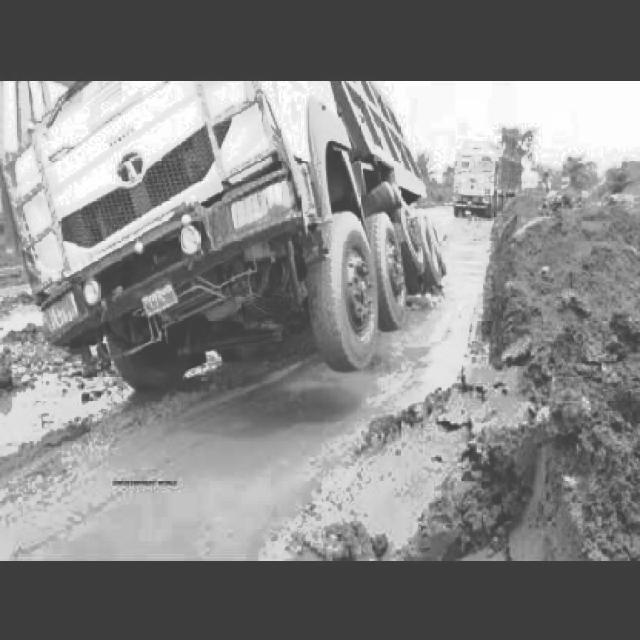HCV: (14, 70, 441, 378), (456, 148, 532, 214)
